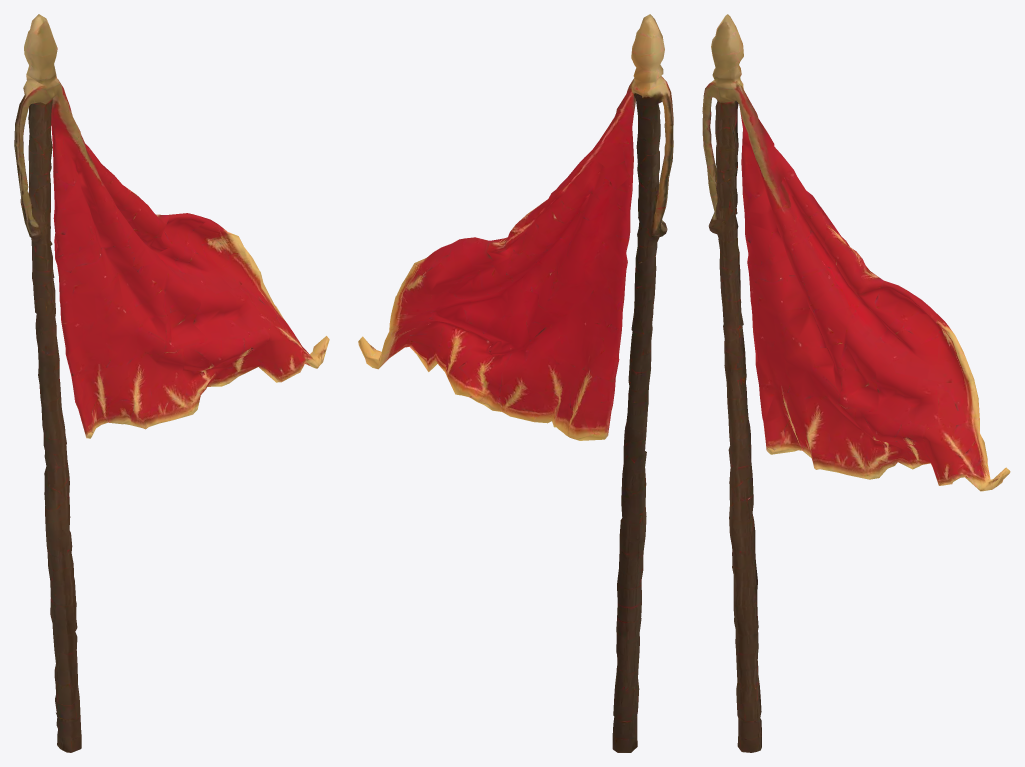
The model's file is banner_pole.glb.
3 renders of one model, left to right at view 1: azimuth 30°, elevation 25°; view 2: azimuth 150°, elevation 25°; view 3: azimuth 330°, elevation 25°, orthographic. The views are drawn at different scales.
Parts seen in each view (by area): view 1: 0; view 2: 0; view 3: 0.
Part boxes in pixels (x1,y1,x2,y2): 0: (14, 14, 329, 752); 0: (358, 14, 673, 752); 0: (702, 14, 1010, 752).
Size of the model in its own units: 0.8454 by 1.91 by 0.2231.
Materials: 1 (1 with a texture image).
